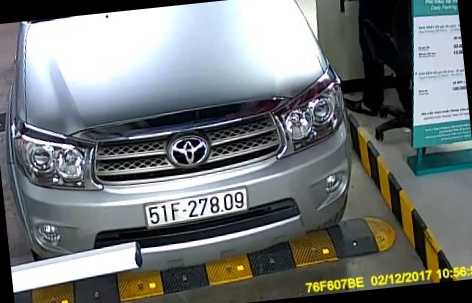plate: (144, 183, 256, 229)
